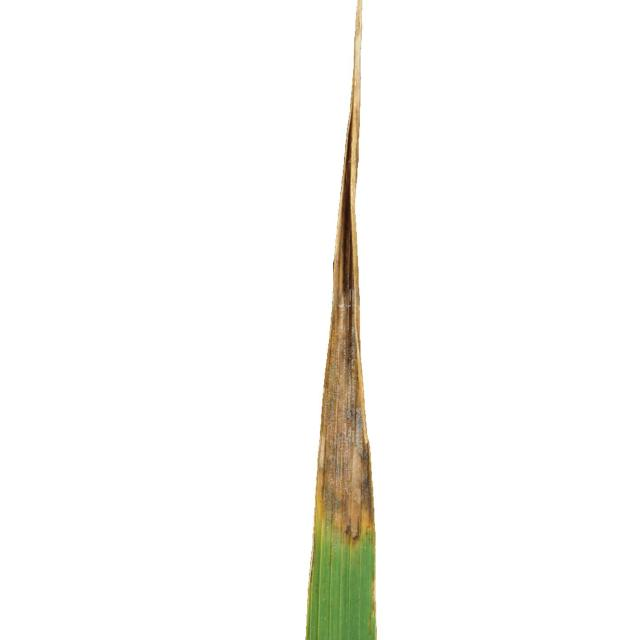Leaf scald: (222, 0, 476, 640)
